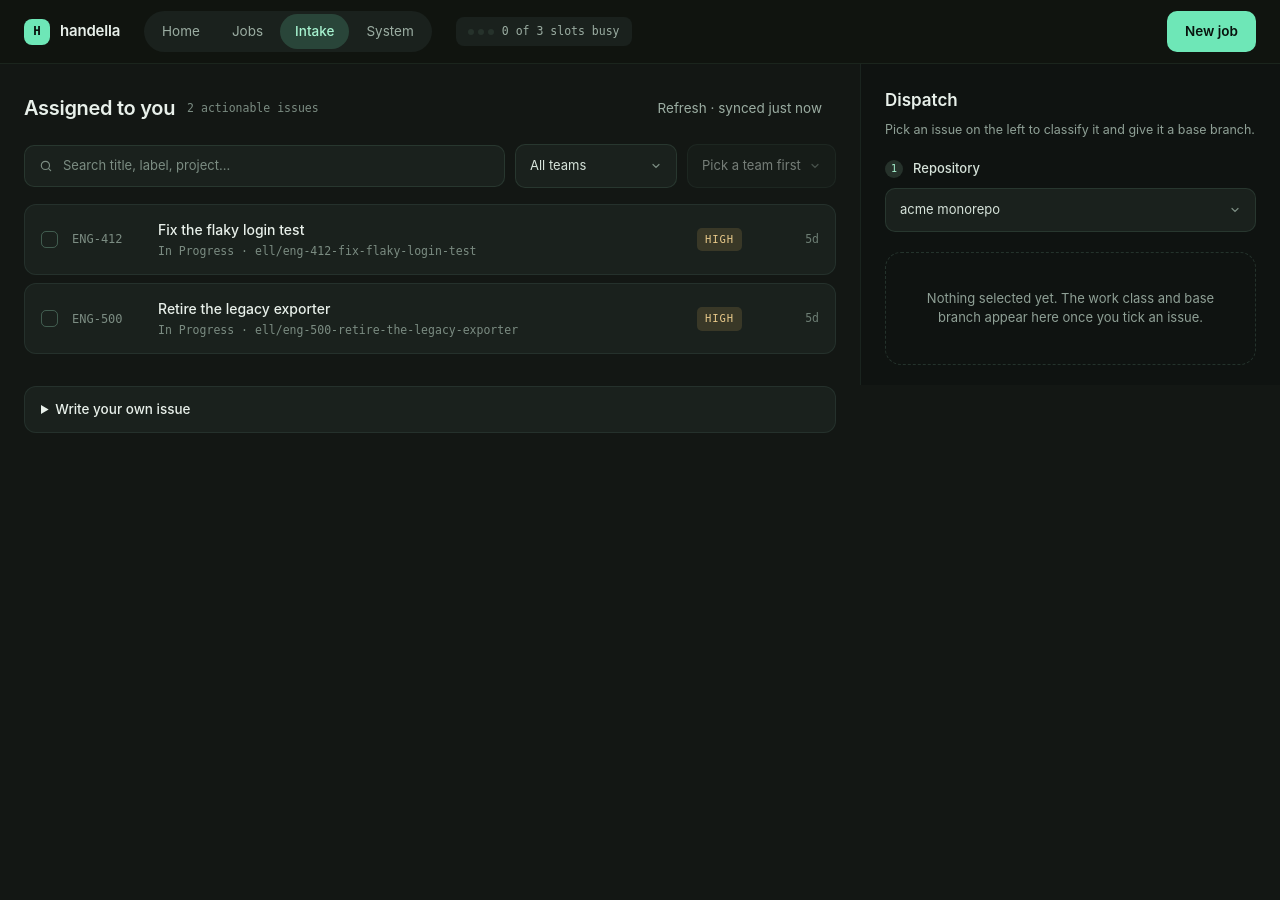
Test: creating jobs from a selection › keeps the good ones when one issue is already taken
What coordinates should you click on to do the following:
click the checkbox named "Select ENG-412"
I would click on:
 (50, 239)
Its box is [41,231,58,248].
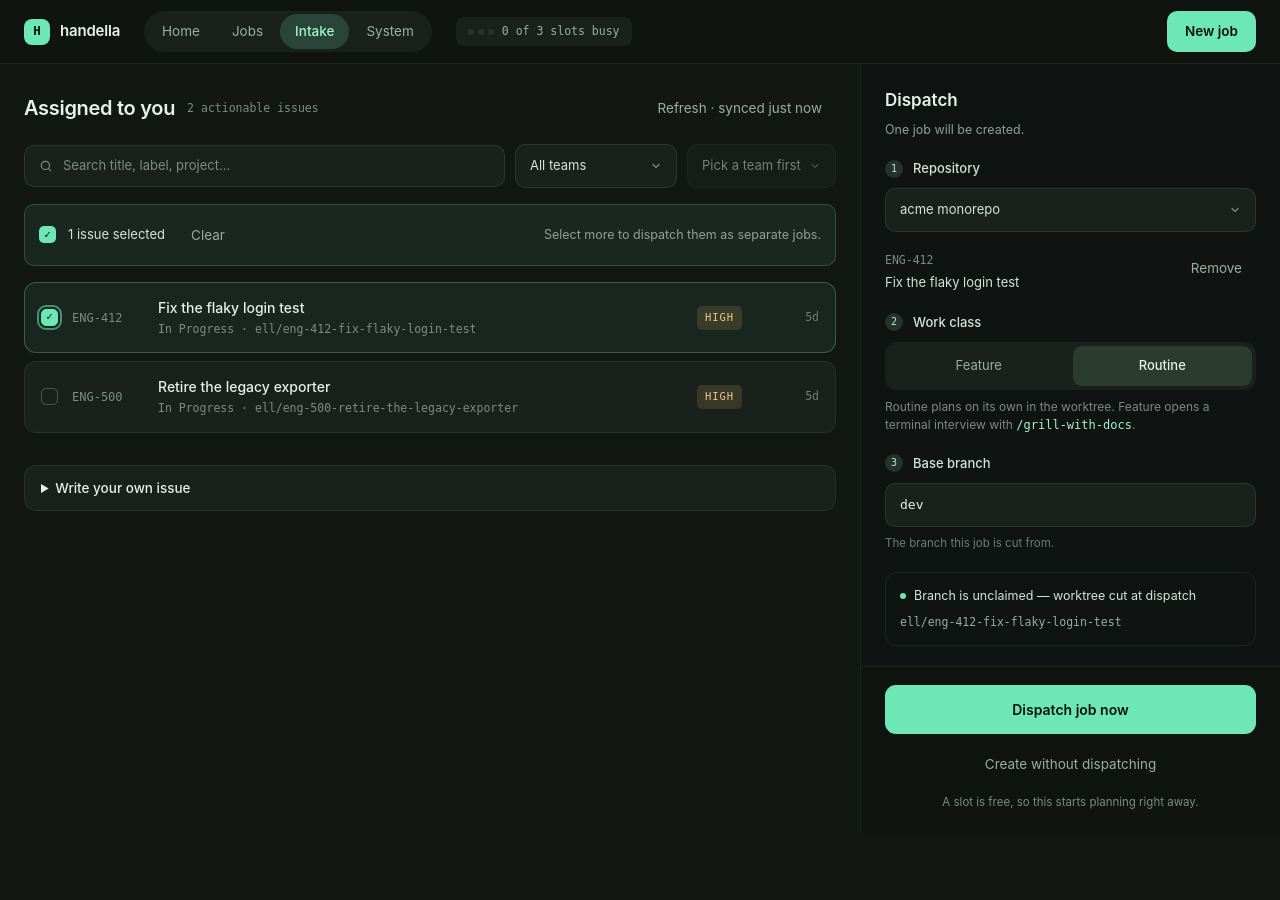
What coordinates should you click on to do the following:
click the checkbox named "Select ENG-500"
I would click on:
 (50, 397)
Its box is [41,388,58,405].
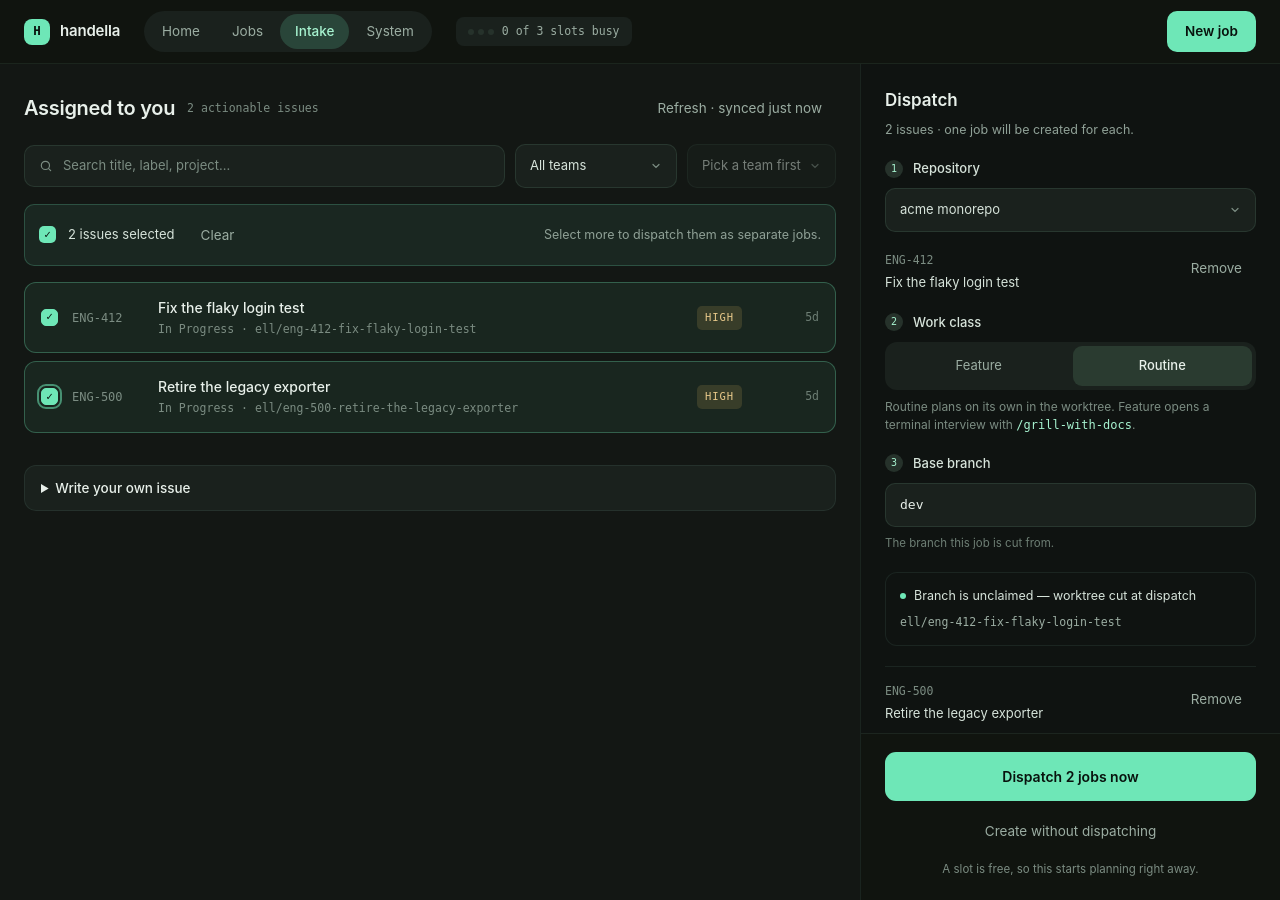
What coordinates should you click on to do the following:
click the button "Dispatch 2 jobs now"
I would click on:
 (1070, 776)
Its box is [885,752,1256,800].
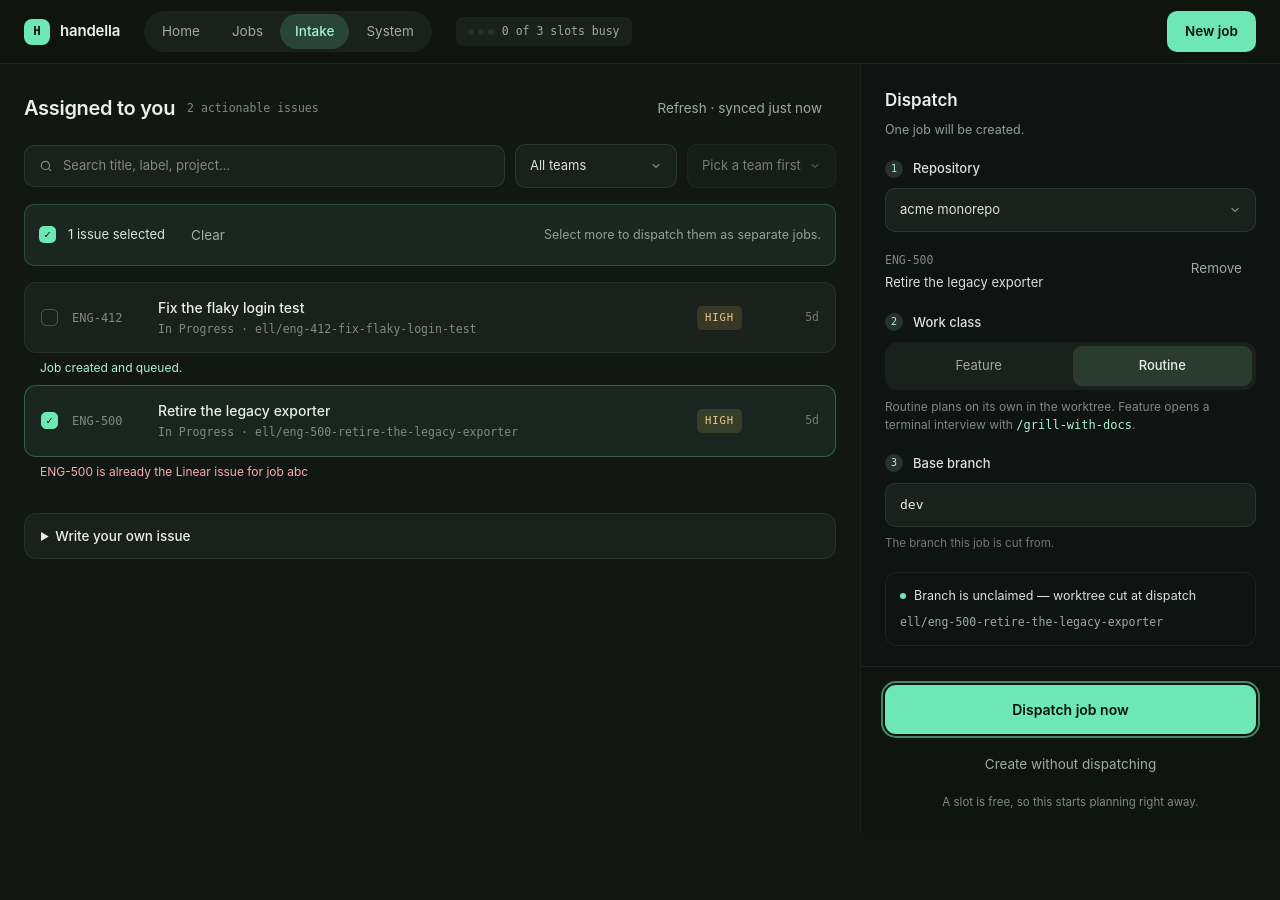
Expected: the text "Job created and queued." is shown, [40,360,182,375]
Expected: the text "ENG-500 is already the Linear issue for job abc" is shown, [40,464,308,478]
